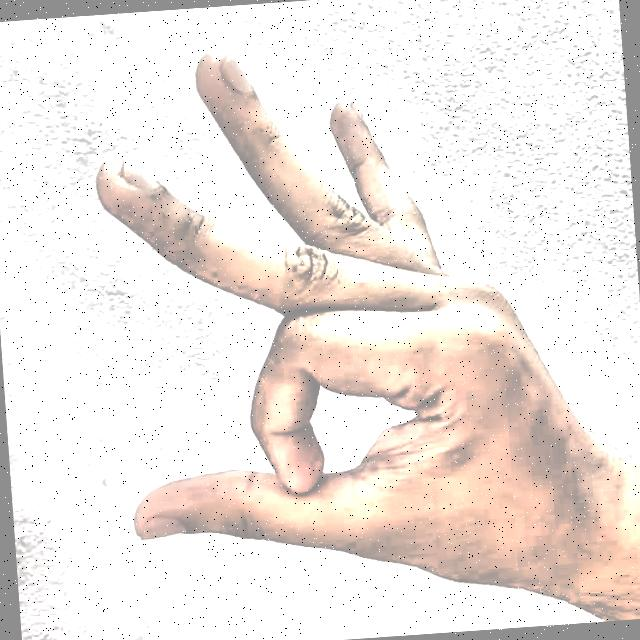Uo: (32, 13, 599, 640)
